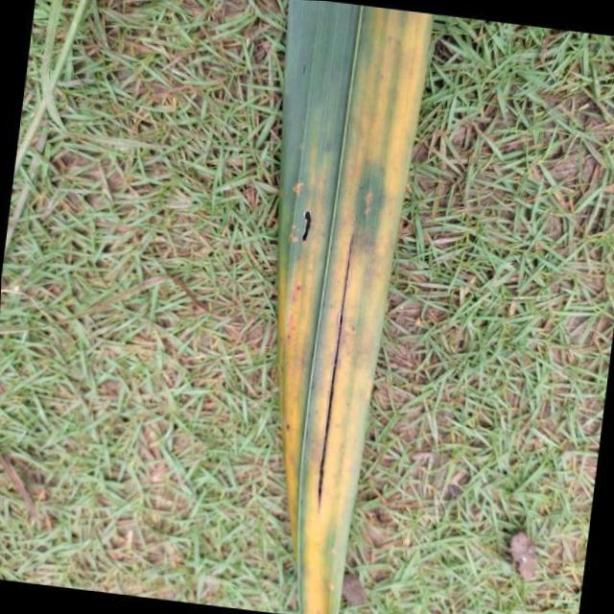Megnesium: (276, 0, 432, 614)
